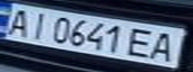0: (45, 14, 72, 45)
1: (103, 22, 127, 55)
4: (84, 20, 109, 52)
6: (66, 17, 90, 48)
A: (145, 29, 187, 63), (0, 6, 36, 37)
E: (124, 26, 160, 60)
I: (21, 10, 54, 40)
